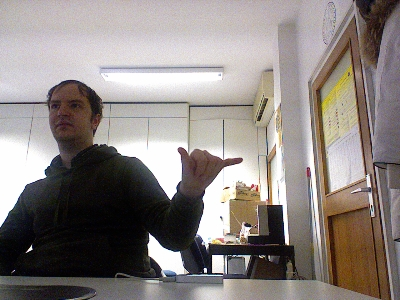六六六: (175, 143, 244, 193)
